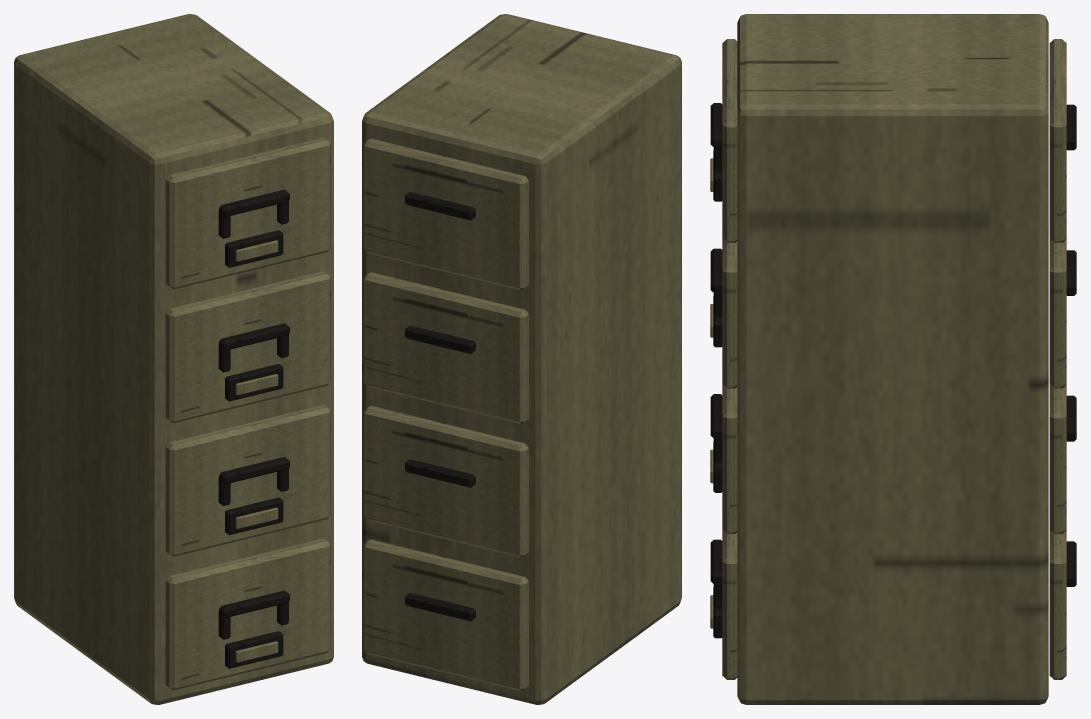
Rendered from impossible-filing-cabinet.glb.
The picture shows the model from 3 angles, left to right: view 1: azimuth 30°, elevation 25°; view 2: azimuth 150°, elevation 25°; view 3: azimuth 270°, elevation 25°; orthographic projection. The views are drawn at different scales.
Parts seen in each view (by area): view 1: SM_backrooms_impossible_filing_cabinet_CabinetYellowedPaint, SM_backrooms_impossible_filing_cabinet_CabinetDarkHardware; view 2: SM_backrooms_impossible_filing_cabinet_CabinetYellowedPaint, SM_backrooms_impossible_filing_cabinet_CabinetDarkHardware; view 3: SM_backrooms_impossible_filing_cabinet_CabinetYellowedPaint, SM_backrooms_impossible_filing_cabinet_CabinetDarkHardware.
Boxes of the visible parts, x1,y1,x2,y2 form: SM_backrooms_impossible_filing_cabinet_CabinetYellowedPaint: (14, 14, 333, 704); SM_backrooms_impossible_filing_cabinet_CabinetDarkHardware: (218, 189, 289, 668); SM_backrooms_impossible_filing_cabinet_CabinetYellowedPaint: (362, 14, 681, 704); SM_backrooms_impossible_filing_cabinet_CabinetDarkHardware: (405, 192, 475, 621); SM_backrooms_impossible_filing_cabinet_CabinetYellowedPaint: (710, 14, 1066, 704); SM_backrooms_impossible_filing_cabinet_CabinetDarkHardware: (710, 103, 1076, 638).
Bounding box in the file's own units: 0.46 × 1.32 × 0.73.
Materials: 2 (2 with a texture image).
